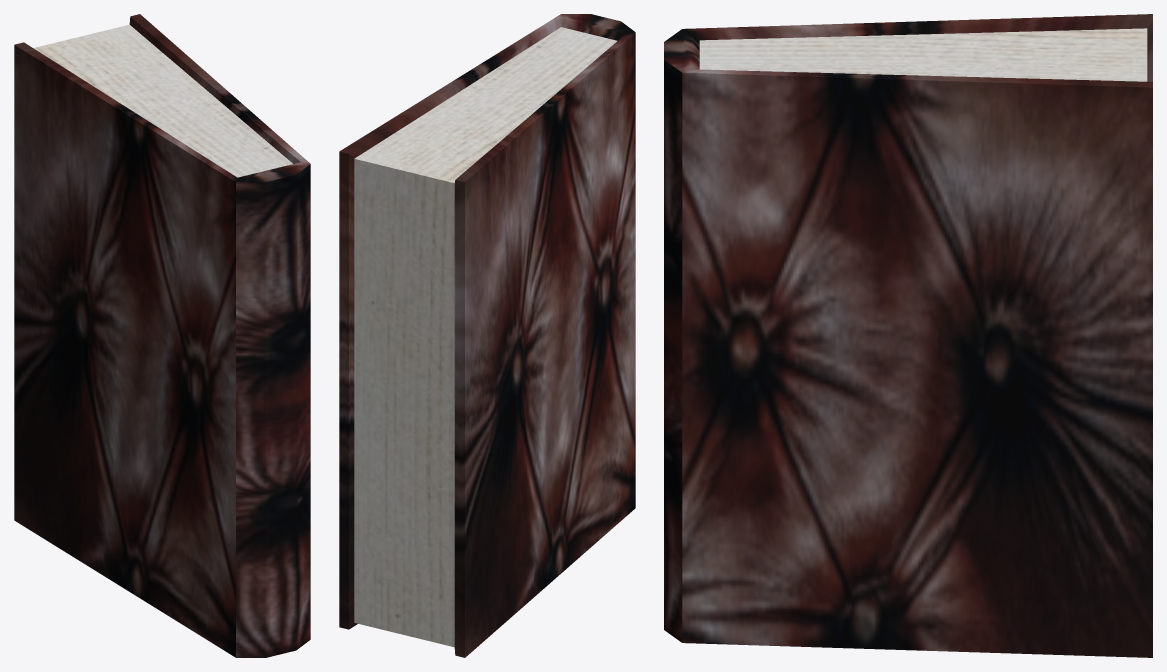
The picture shows the model from 3 angles, left to right: view 1: azimuth 30°, elevation 25°; view 2: azimuth 150°, elevation 25°; view 3: azimuth 270°, elevation 25°; orthographic projection. The views are drawn at different scales.
Parts seen in each view (by area): view 1: Object_2; view 2: Object_2; view 3: Object_2.
Part boxes in pixels (box(x1,y1,x2,y2)): Object_2: box(14, 14, 310, 657); Object_2: box(339, 14, 635, 657); Object_2: box(664, 14, 1152, 657).
Bounding box in the file's own units: 0.431 × 1.56 × 1.21.
1 material, 1 textured.
